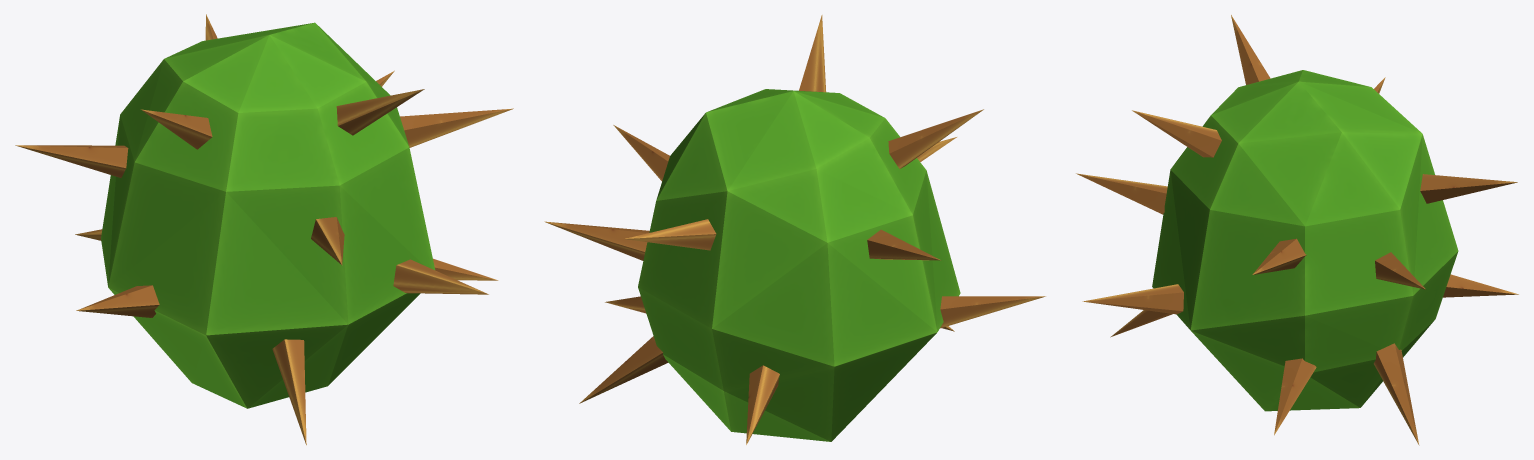
Rendered from Cactus_7.fbx.
3 renders of one model, left to right at view 1: azimuth 30°, elevation 25°; view 2: azimuth 150°, elevation 25°; view 3: azimuth 270°, elevation 25°, orthographic. The views are drawn at different scales.
Parts seen in each view (by area): view 1: Cactus_7; view 2: Cactus_7; view 3: Cactus_7.
Part boxes in pixels (x1,y1,x2,y2): Cactus_7: (15,14,513,445); Cactus_7: (544,15,1045,444); Cactus_7: (1076,15,1518,445).
Bounding box in the file's own units: 24.42 × 23.16 × 17.96.
1 material, 1 textured.
